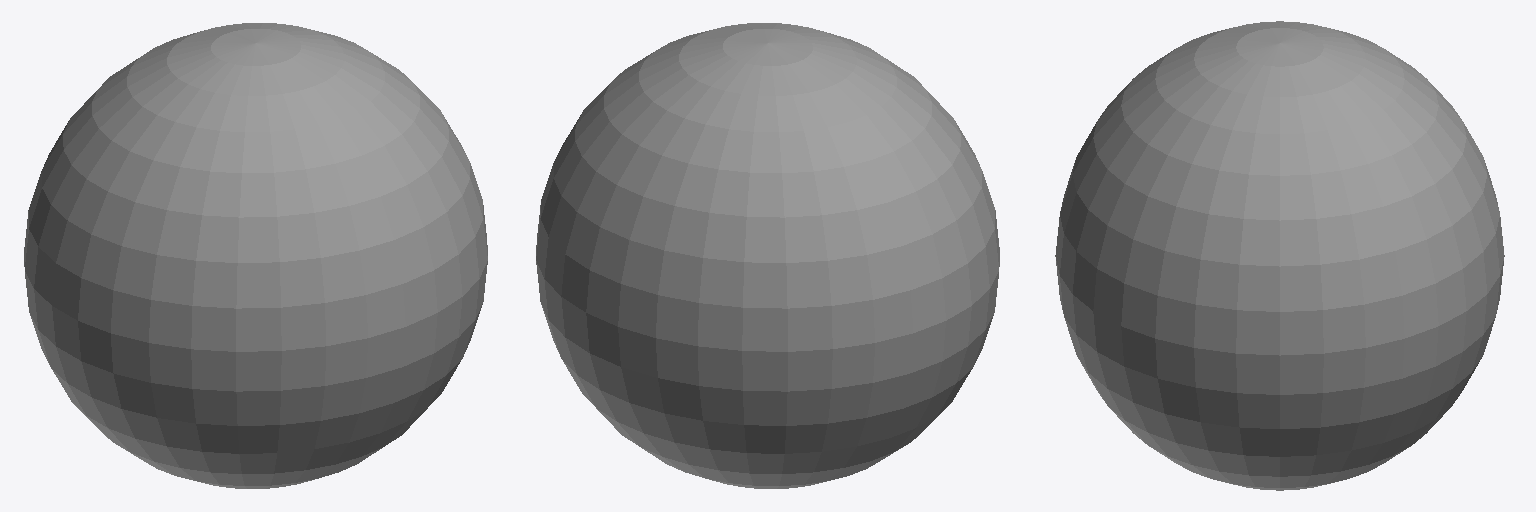
The model's file is shar1.obj.
The picture shows the model from 3 angles: view 1: azimuth 30°, elevation 25°; view 2: azimuth 150°, elevation 25°; view 3: azimuth 270°, elevation 25°; orthographic projection.
Visible parts, largest first — view 1: Sphere.001; view 2: Sphere.001; view 3: Sphere.001.
Part boxes in pixels (x1,y1,x2,y2): Sphere.001: (24,23,487,488); Sphere.001: (536,23,999,488); Sphere.001: (1055,21,1504,490).
Size of the model in its own units: 0.4185 by 0.4172 by 0.399.